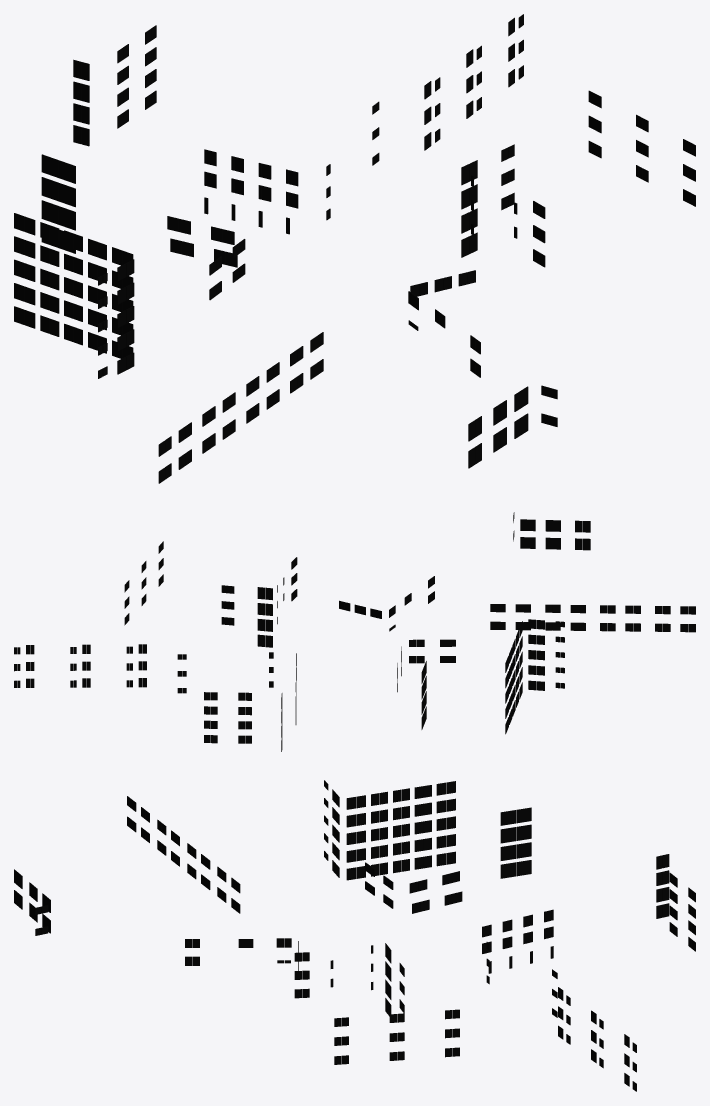
File: Glass_Pane.obj
3 renders of one model, top to bottom at view 1: azimuth 30°, elevation 25°; view 2: azimuth 150°, elevation 25°; view 3: azimuth 270°, elevation 25°, orthographic. The views are drawn at different scales.
Visible parts, largest first — view 1: Glass_Pane; view 2: Glass_Pane; view 3: Glass_Pane.
Part boxes in pixels (bbox=[...]): Glass_Pane: bbox=[14, 14, 695, 483]; Glass_Pane: bbox=[14, 512, 695, 751]; Glass_Pane: bbox=[14, 780, 695, 1091].
Bounding box in the file's own units: 98.3 × 15.08 × 109.
Materials: 1 (1 with a texture image).
